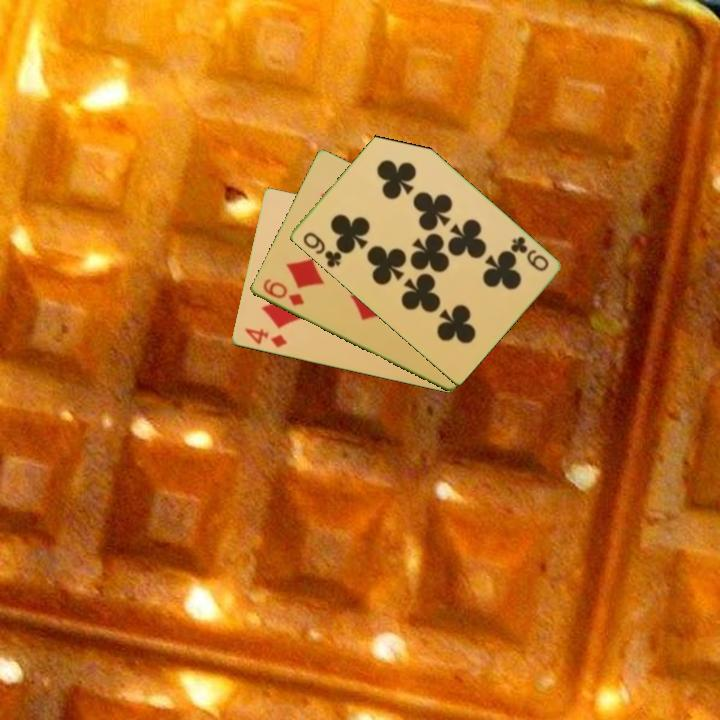4d: (241, 325, 290, 351)
6d: (259, 275, 307, 309)
9c: (299, 228, 344, 271), (507, 233, 552, 274)
